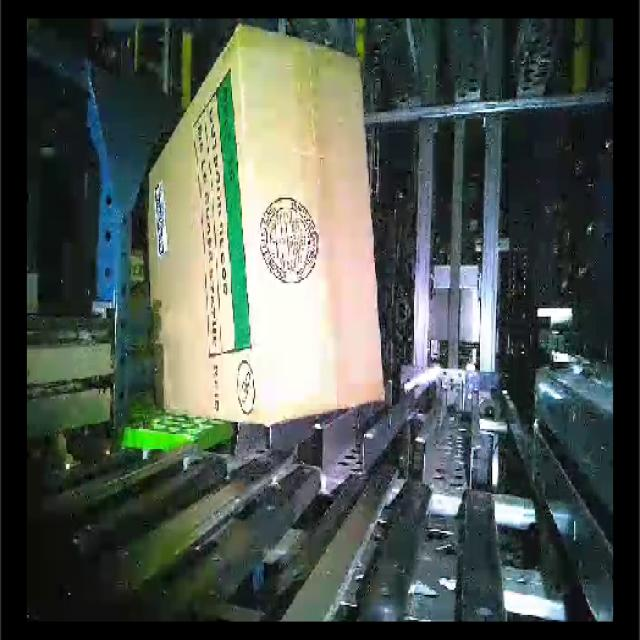box: (143, 25, 266, 430)
